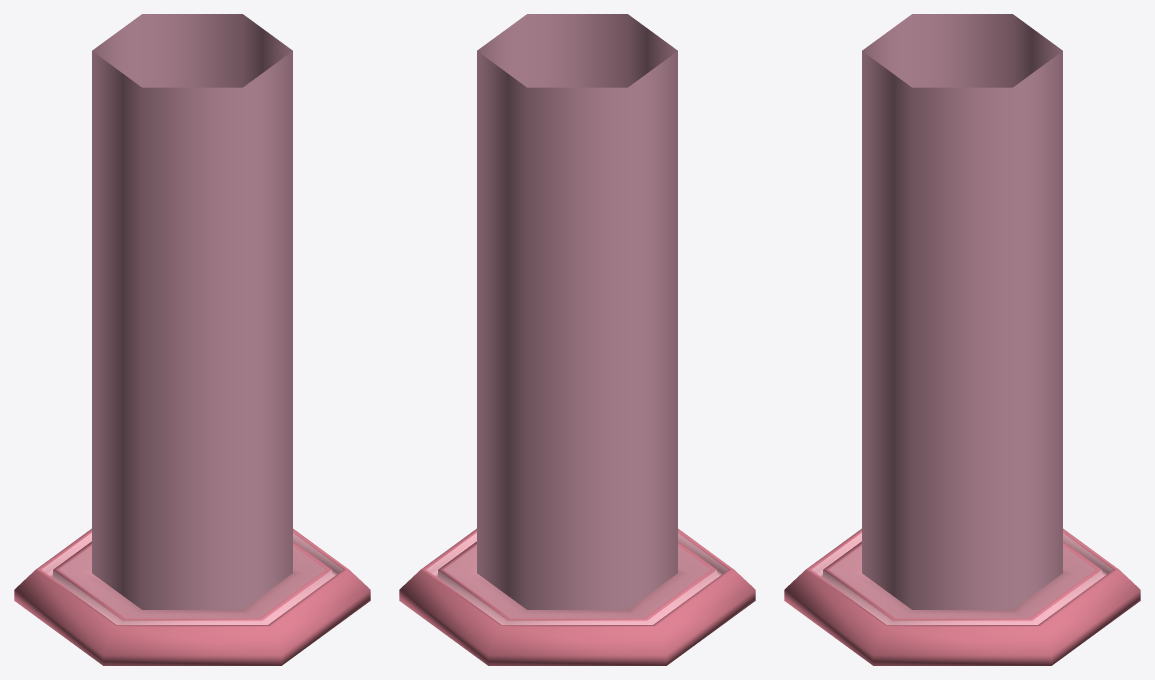
Rendered from portal.obj.
3 renders of one model, left to right at view 1: azimuth 30°, elevation 25°; view 2: azimuth 150°, elevation 25°; view 3: azimuth 270°, elevation 25°, orthographic.
Parts seen in each view (by area): view 1: Cylinder_Cylinder.001; view 2: Cylinder_Cylinder.001; view 3: Cylinder_Cylinder.001.
Part boxes in pixels (<box>): Cylinder_Cylinder.001: <box>14,14,370,665</box>; Cylinder_Cylinder.001: <box>399,14,755,665</box>; Cylinder_Cylinder.001: <box>784,14,1140,665</box>.
Bounding box in the file's own units: 3.39 × 6.67 × 3.92.
